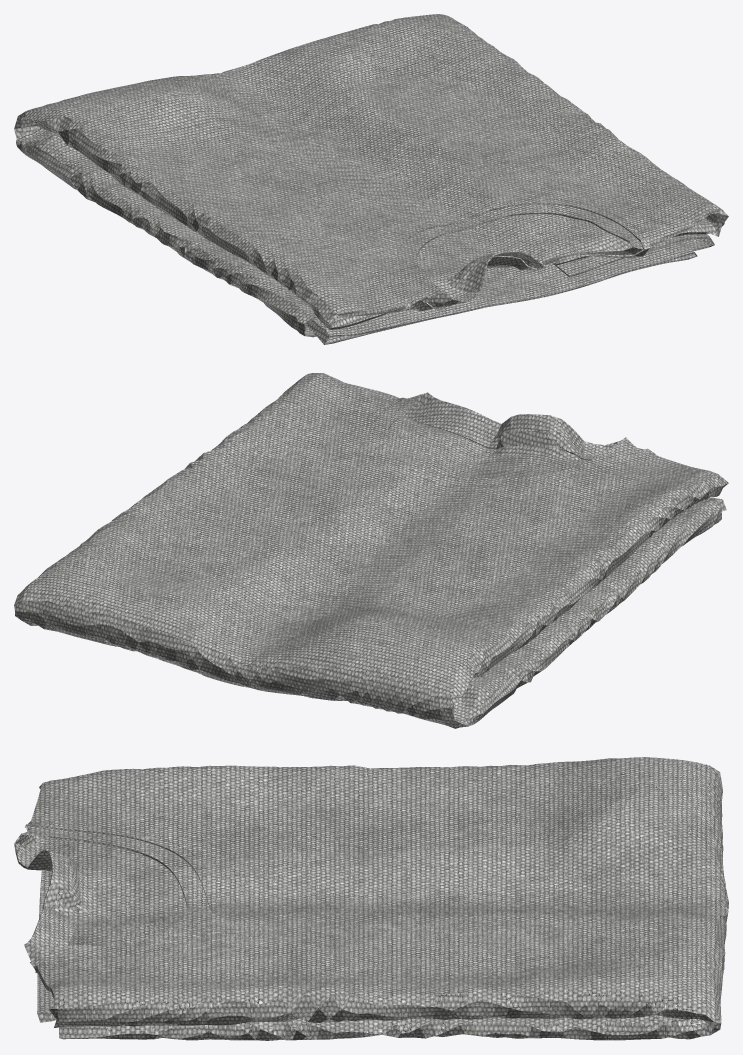
File: T_shirt_body_302.fbx
The picture shows the model from 3 angles, top to bottom: view 1: azimuth 30°, elevation 25°; view 2: azimuth 150°, elevation 25°; view 3: azimuth 270°, elevation 25°; orthographic projection. The views are drawn at different scales.
Parts seen in each view (by area): view 1: T_shirt_body_302; view 2: T_shirt_body_302; view 3: T_shirt_body_302.
Part boxes in pixels (box(x1,y1,x2,y2)): T_shirt_body_302: box(14, 14, 728, 344); T_shirt_body_302: box(14, 373, 728, 728); T_shirt_body_302: box(14, 757, 728, 1040).
Bounding box in the file's own units: 10.23 × 1.33 × 12.33.
